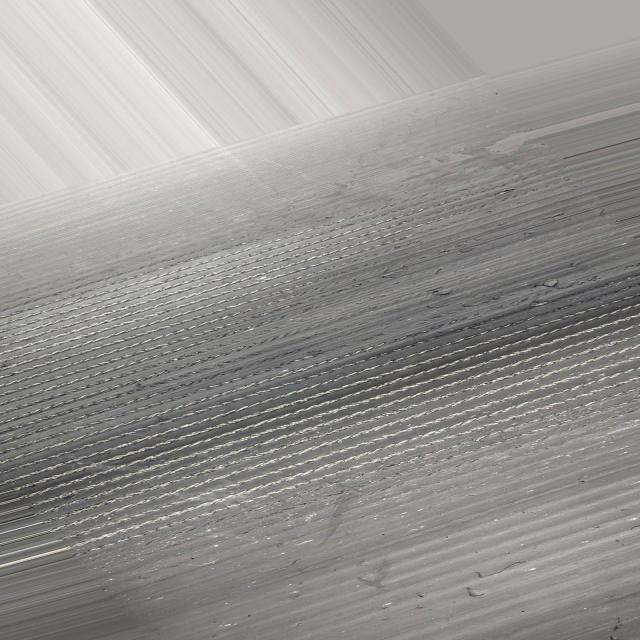Wear: (1, 169, 640, 562)
